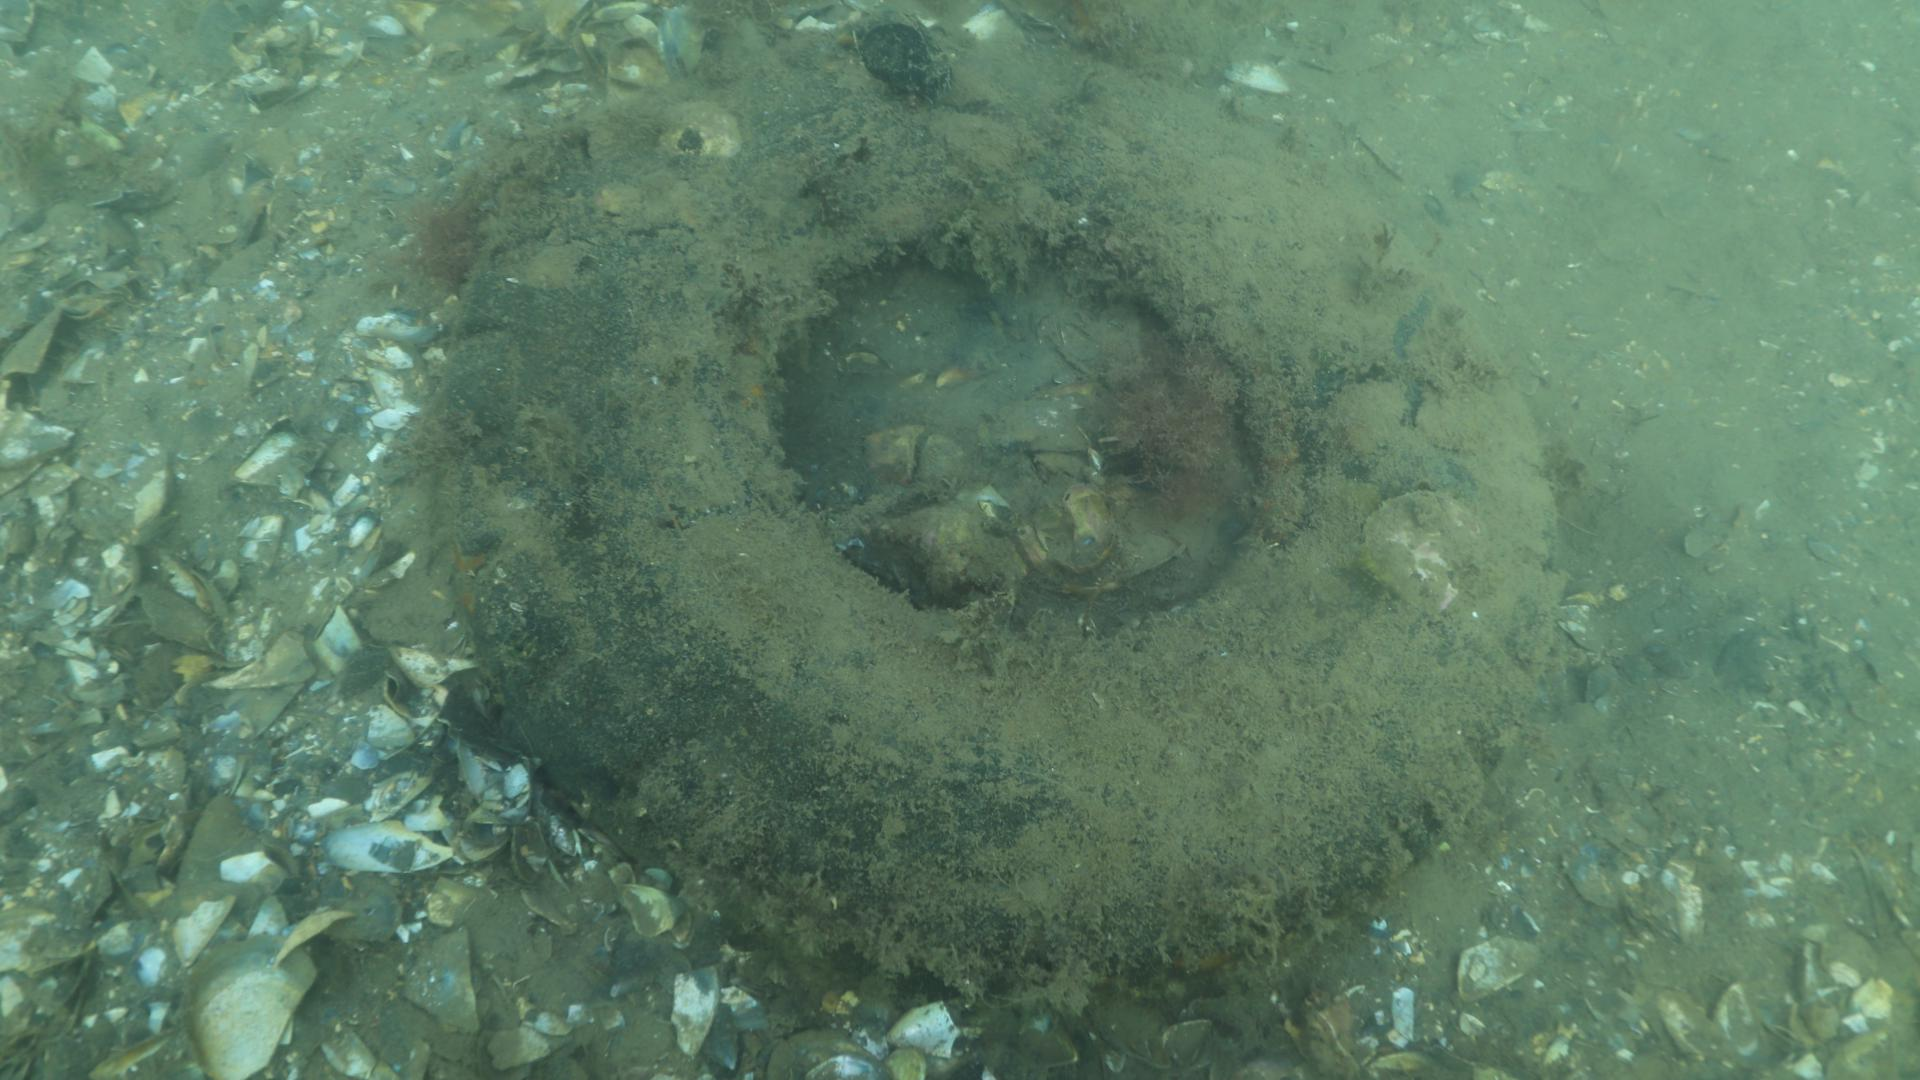tire: (433, 37, 1563, 973)
